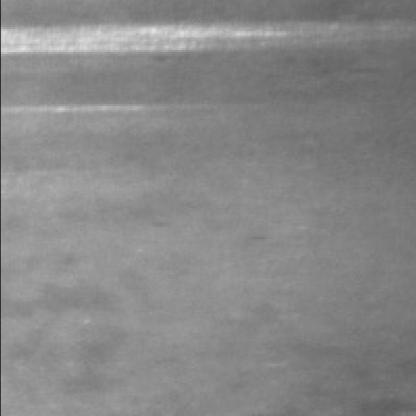scratches: (4, 21, 310, 64), (6, 98, 183, 122)
